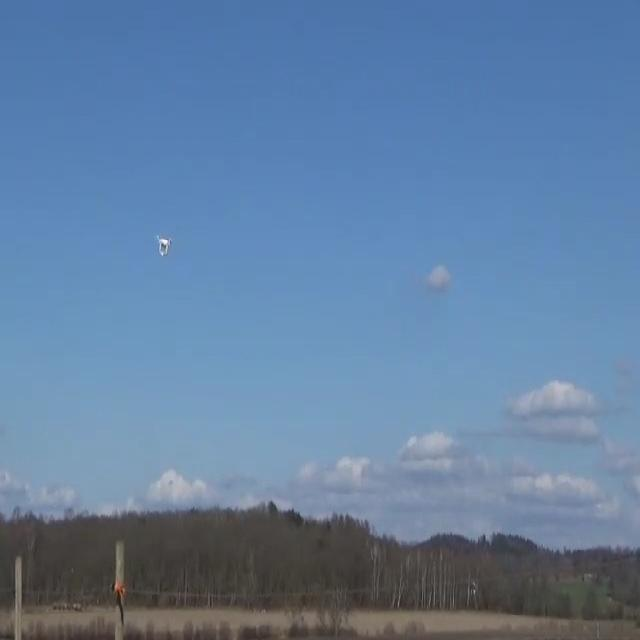drone: (155, 234, 172, 256)
